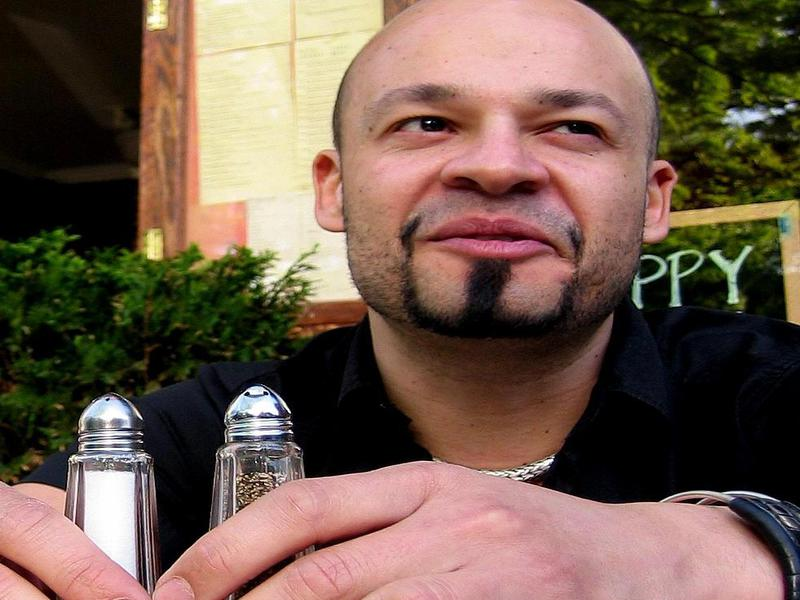person: (52, 3, 800, 599)
